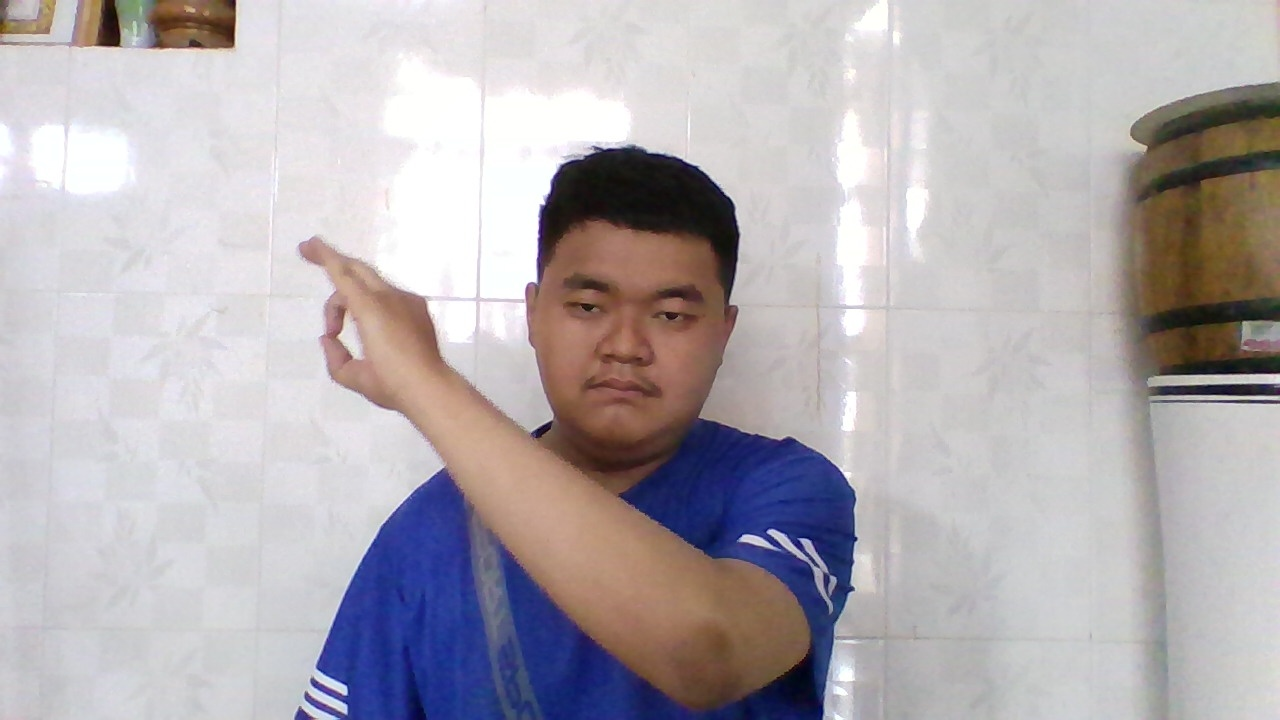H: (293, 233, 436, 406)
